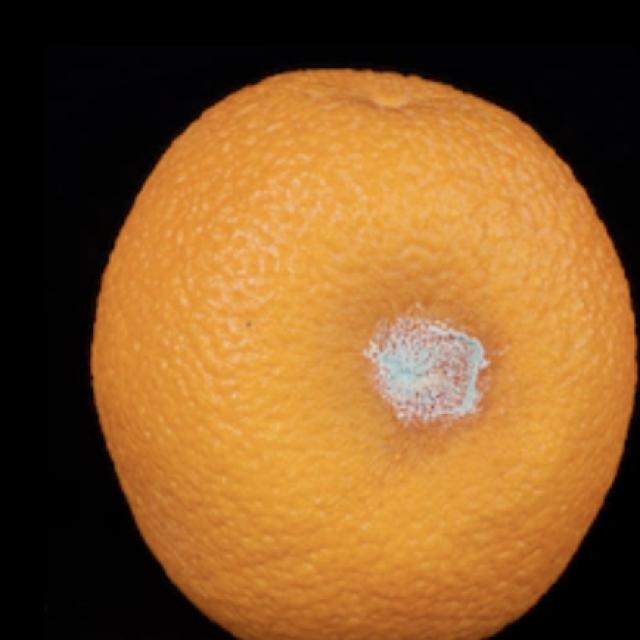sedikit_busuk: (91, 67, 640, 640)
